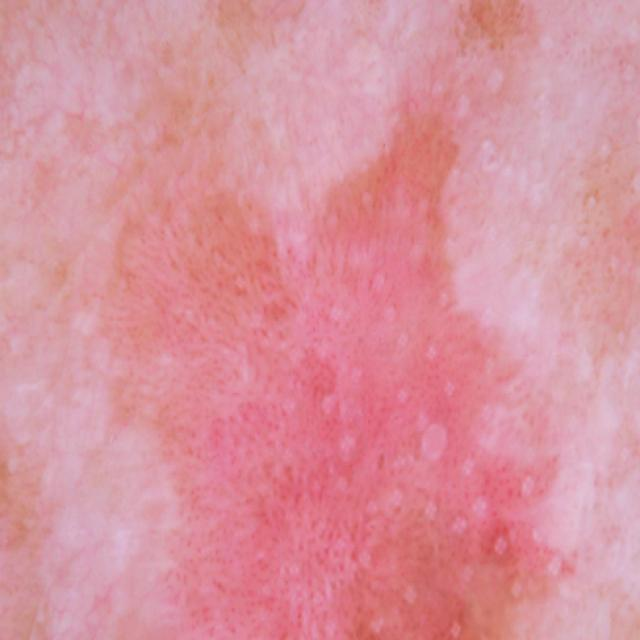Carcinoma: (77, 171, 606, 640)
